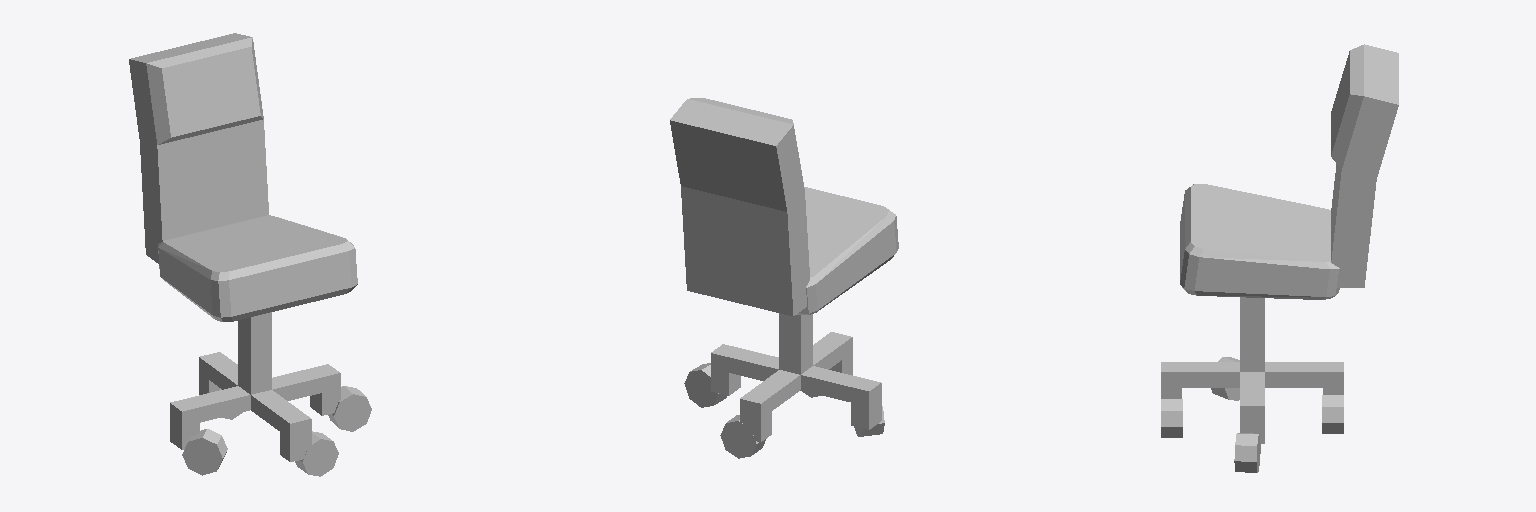
The model's file is chairOffice.obj.
3 renders of one model, left to right at view 1: azimuth 30°, elevation 25°; view 2: azimuth 150°, elevation 25°; view 3: azimuth 270°, elevation 25°, orthographic.
Parts seen in each view (by area): view 1: officeChair; view 2: officeChair; view 3: officeChair.
Boxes of the visible parts, x1,y1,x2,y2 form: officeChair: [129, 33, 371, 476]; officeChair: [670, 98, 898, 458]; officeChair: [1161, 44, 1398, 472].
Bounding box in the file's own units: 0.9267 × 1.66 × 1.